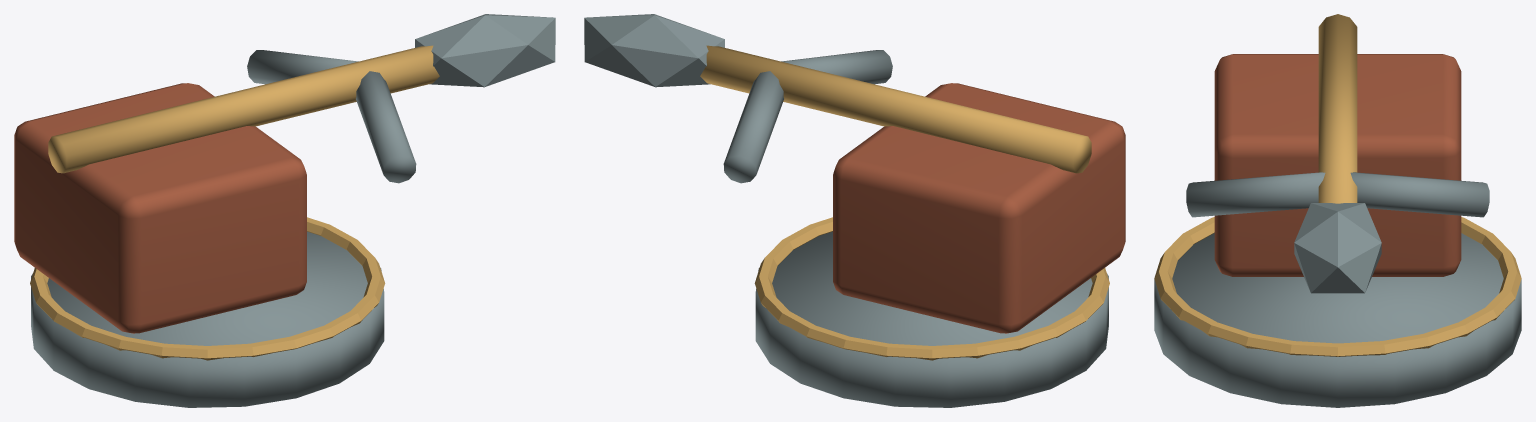
File: module-harpoon.glb
3 views of the same model, side by side, from view 1: azimuth 30°, elevation 25°; view 2: azimuth 150°, elevation 25°; view 3: azimuth 270°, elevation 25° (orthographic). The views are drawn at different scales.
Parts seen in each view (by area): view 1: module-harpoon / Copper | patinated oxblood, module-harpoon / Iron | weathered steel, module-harpoon / Brass | machined champagne; view 2: module-harpoon / Copper | patinated oxblood, module-harpoon / Iron | weathered steel, module-harpoon / Brass | machined champagne; view 3: module-harpoon / Iron | weathered steel, module-harpoon / Copper | patinated oxblood, module-harpoon / Brass | machined champagne.
Boxes of the visible parts, x1,y1,x2,y2 form: module-harpoon / Copper | patinated oxblood: [14, 83, 306, 333]; module-harpoon / Iron | weathered steel: [31, 14, 555, 407]; module-harpoon / Brass | machined champagne: [30, 45, 439, 360]; module-harpoon / Copper | patinated oxblood: [833, 83, 1125, 333]; module-harpoon / Iron | weathered steel: [584, 14, 1108, 407]; module-harpoon / Brass | machined champagne: [700, 45, 1109, 360]; module-harpoon / Iron | weathered steel: [1154, 172, 1521, 407]; module-harpoon / Copper | patinated oxblood: [1214, 54, 1461, 276]; module-harpoon / Brass | machined champagne: [1154, 14, 1521, 356].
Bounding box in the file's own units: 2.68 × 1.28 × 1.64.
